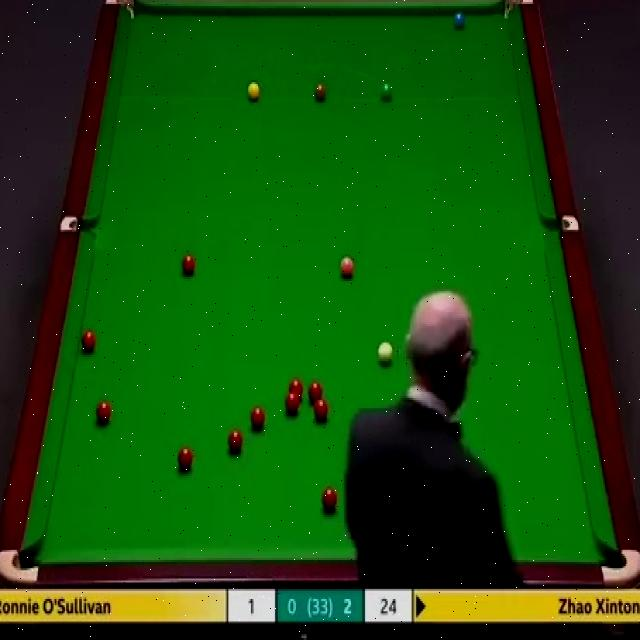blue-ball: (454, 10, 466, 32)
brown-ball: (313, 82, 327, 101)
green-ball: (379, 83, 392, 101)
pink-ball: (339, 255, 356, 280)
red-ball: (178, 444, 196, 474), (179, 254, 197, 282), (226, 430, 242, 456), (96, 399, 112, 424), (81, 331, 96, 357), (322, 487, 338, 511), (250, 404, 265, 429), (286, 394, 302, 416), (288, 378, 304, 399), (308, 381, 323, 403), (313, 398, 327, 418)
white-ball: (376, 342, 394, 367)
yellow-ball: (247, 82, 260, 101)
